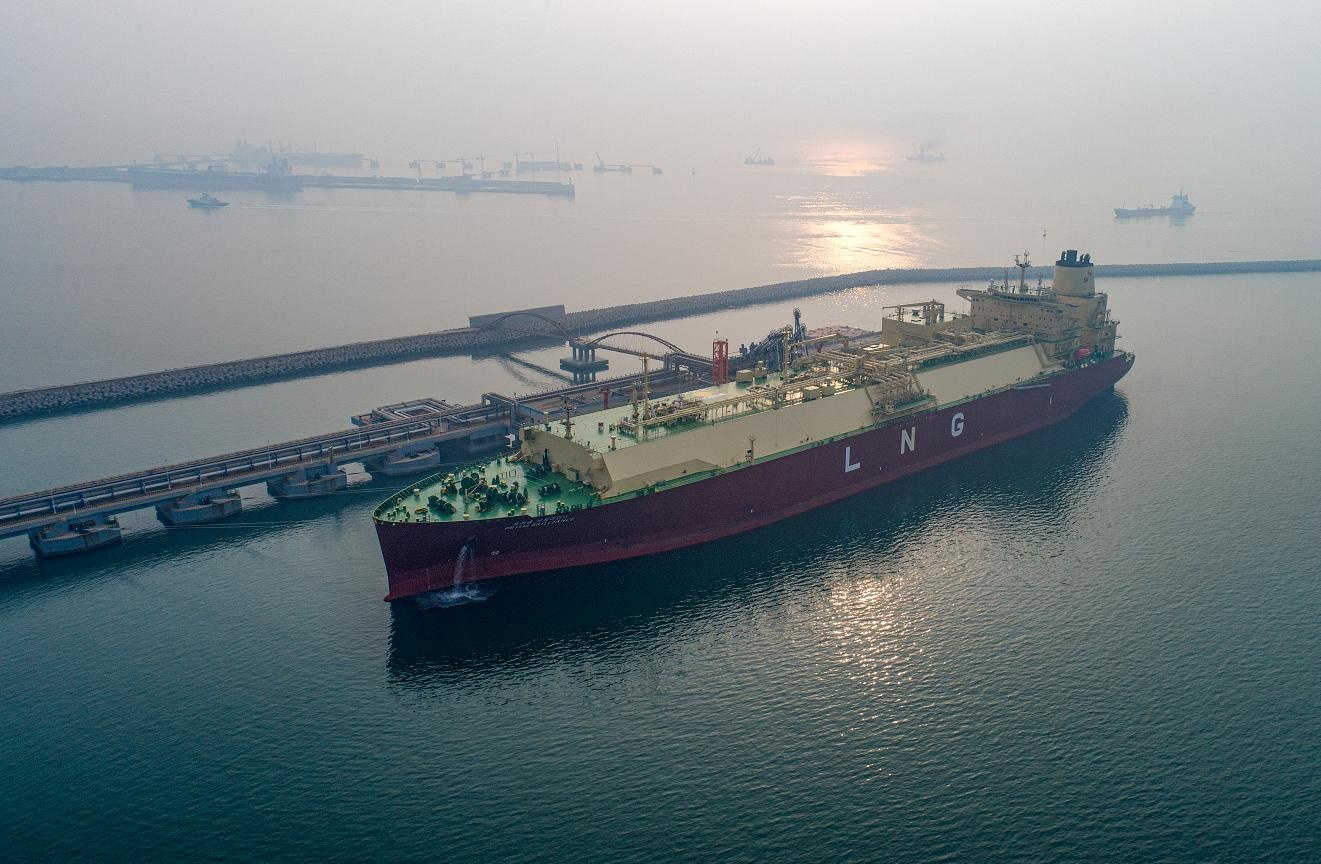Cargoship: (362, 238, 1148, 600)
